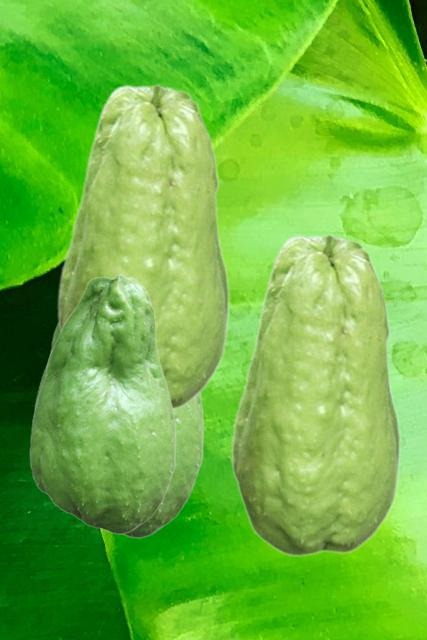sayote: (56, 83, 230, 411), (230, 233, 401, 557), (29, 273, 175, 533), (31, 320, 203, 537)
